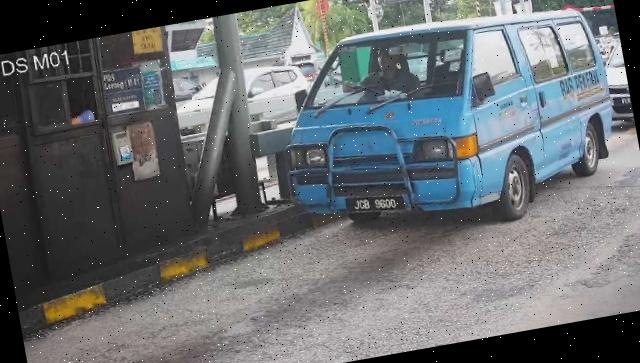License_Plate: (344, 187, 410, 224)
van: (264, 1, 629, 258)
